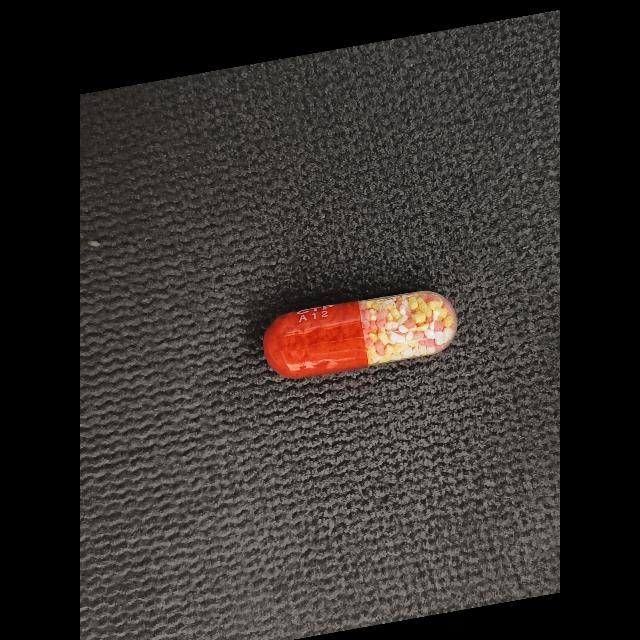Intact Capsule: (263, 291, 458, 379)
